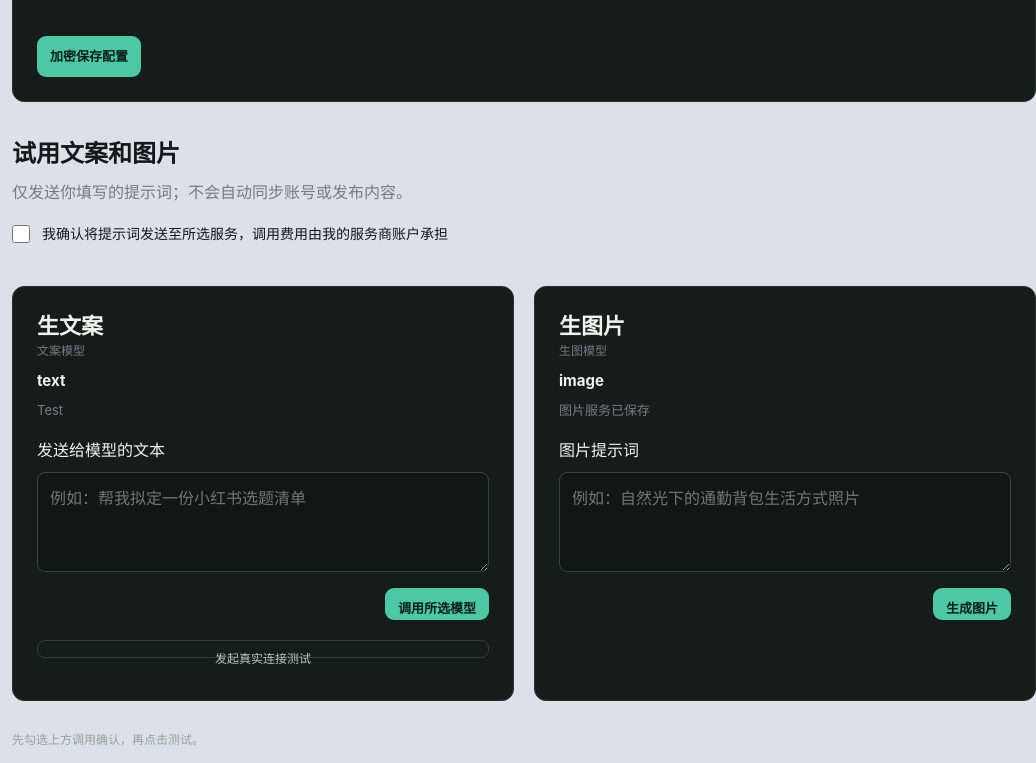
text and image prompts remain independent and submit to their respective services
Later steps or results of the test are not shown.
(page scrolled)
Type "写一篇文案" into the text box labelled "发送给模型的文本" at (263, 522), box [37,472,489,572]
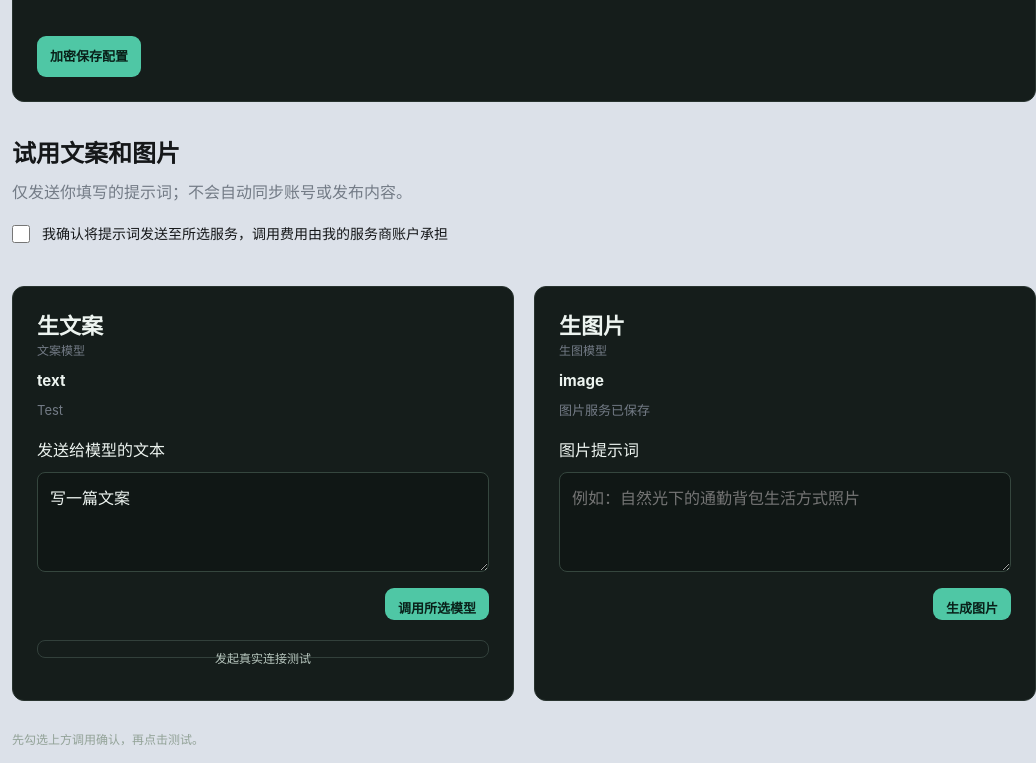
Type "画一片森林" into the text box labelled "图片提示词" at (785, 522), box [559,472,1011,572]
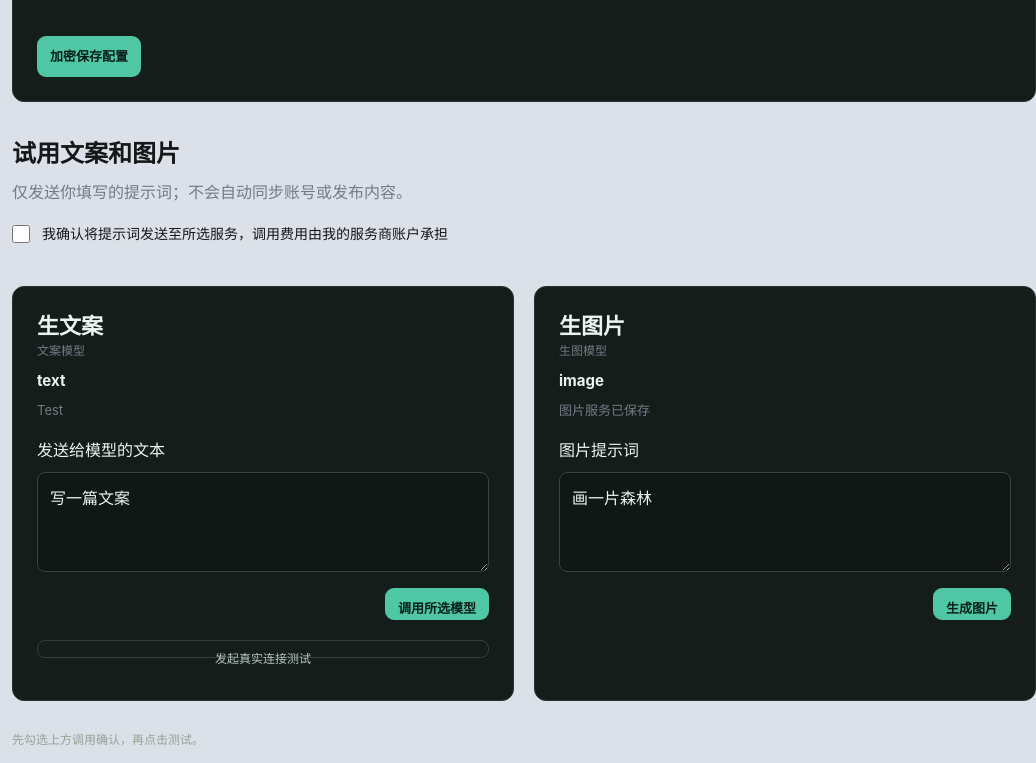
Click the checkbox at (21, 234), box [12,225,30,243]
(page scrolled)
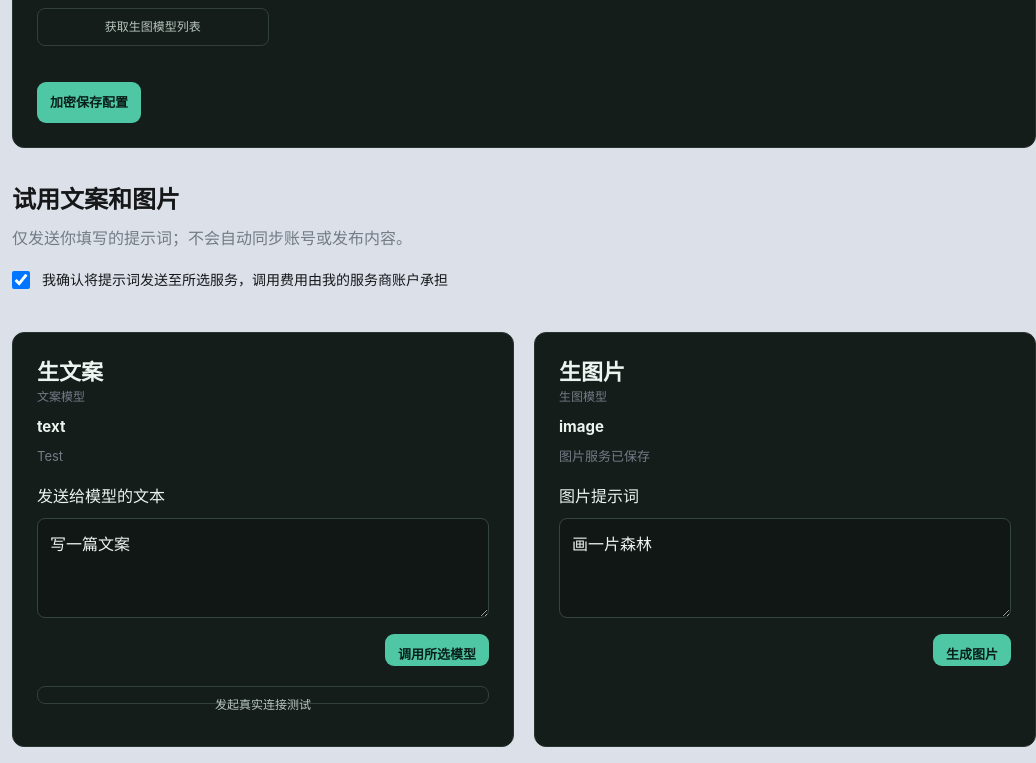
Click the button "调用所选模型" at (437, 650), box [385,634,489,666]
(page scrolled)
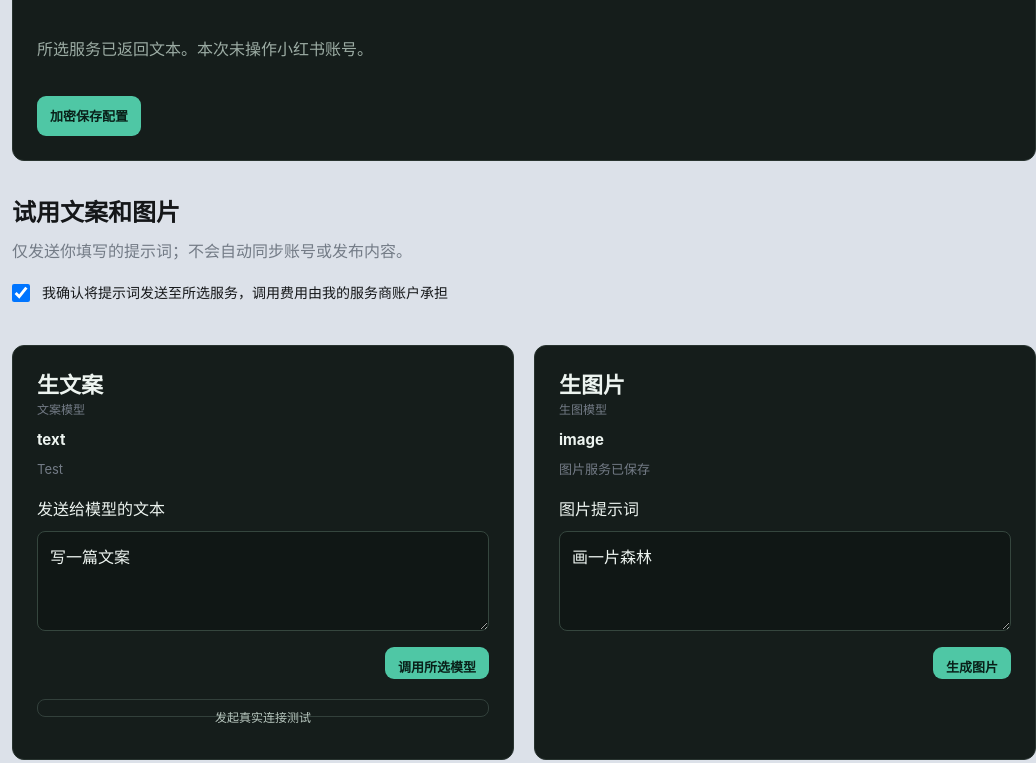
Expected: the button "生成图片" is enabled, [933,647,1011,679]
